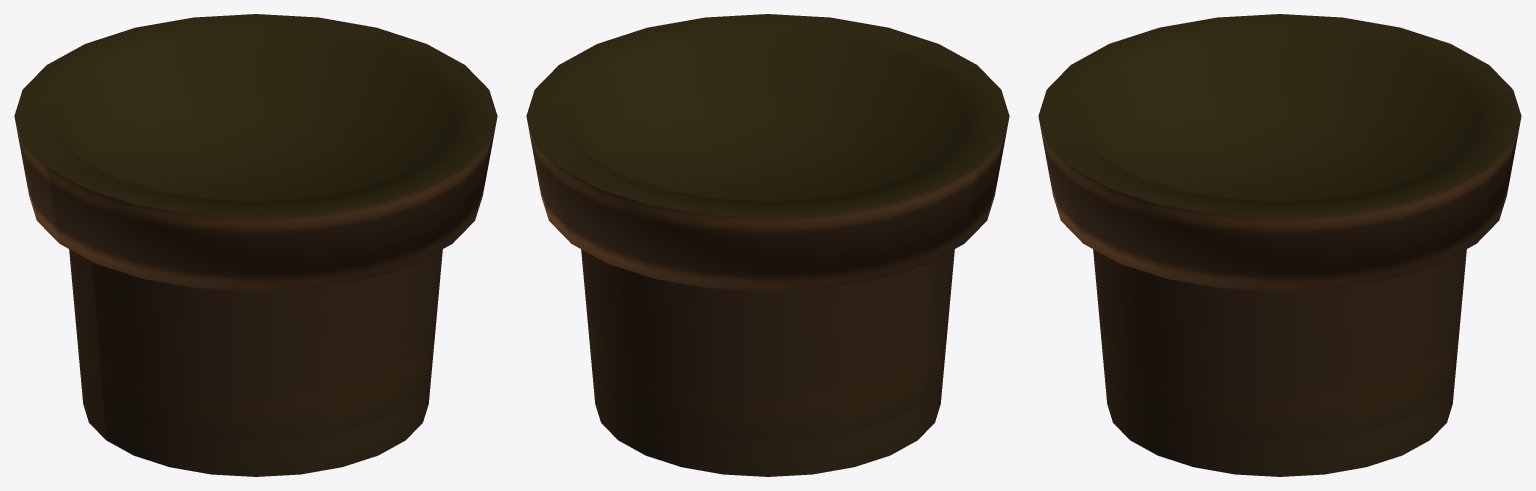
Rendered from Pot.fbx.
3 renders of one model, left to right at view 1: azimuth 30°, elevation 25°; view 2: azimuth 150°, elevation 25°; view 3: azimuth 270°, elevation 25°, orthographic.
Parts seen in each view (by area): view 1: Body_DefaultPot_M; view 2: Body_DefaultPot_M; view 3: Body_DefaultPot_M.
Part boxes in pixels (<box>): Body_DefaultPot_M: <box>14,14,497,476</box>; Body_DefaultPot_M: <box>526,14,1009,476</box>; Body_DefaultPot_M: <box>1038,14,1521,476</box>.
Size of the model in its own units: 91.26 by 60.65 by 91.26.
